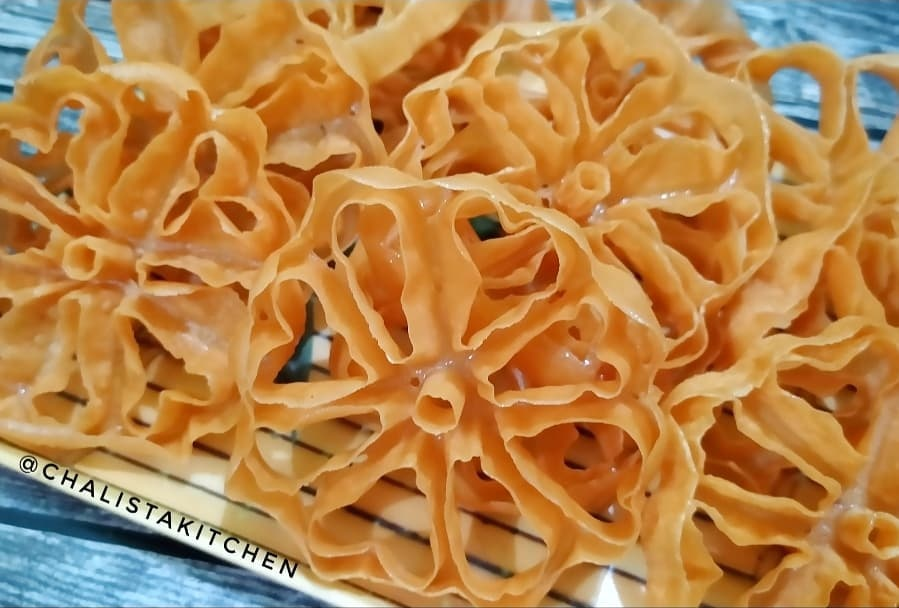kembang_goyang: (229, 170, 673, 598)
